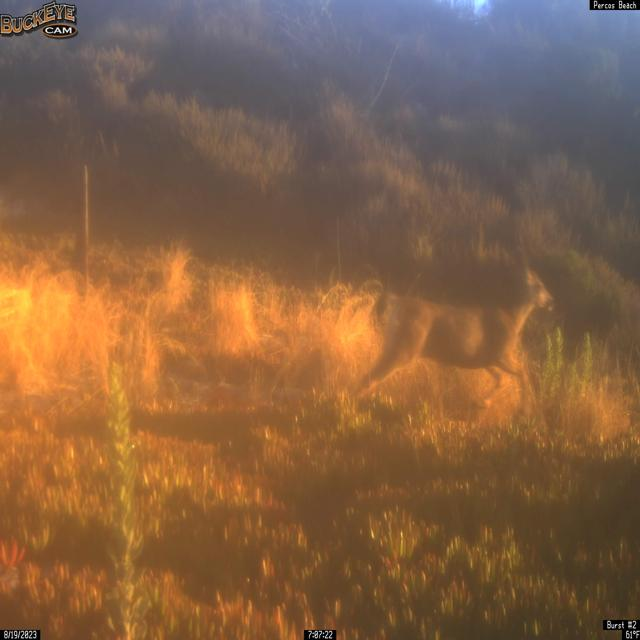deer: (346, 246, 556, 426)
